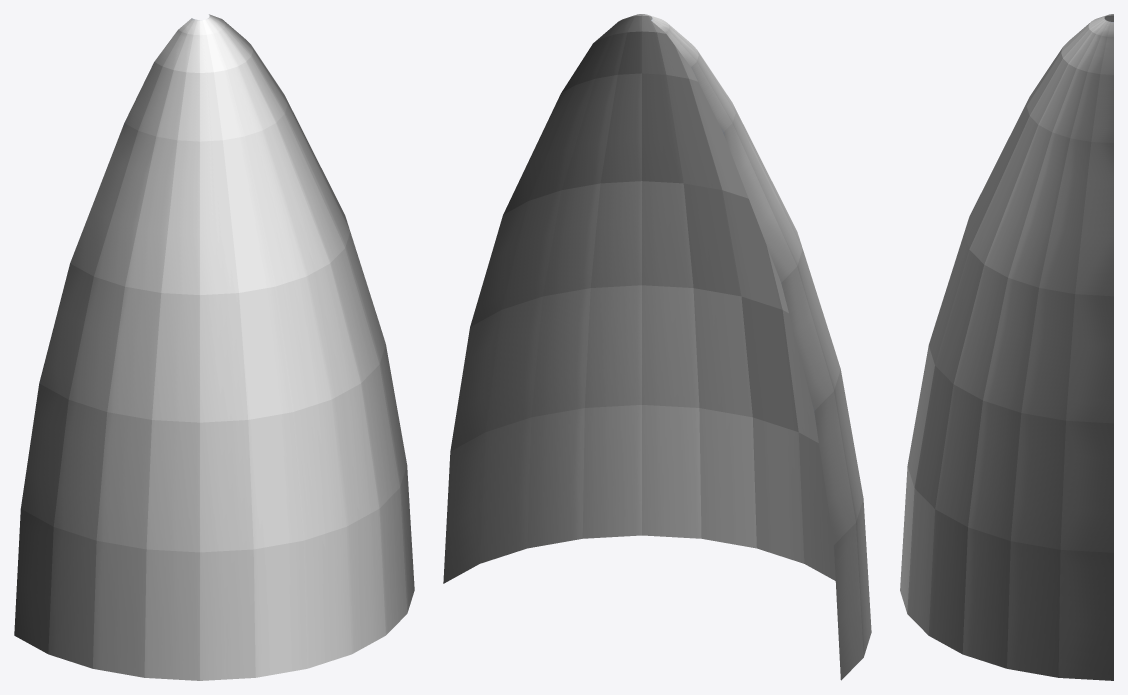
The picture shows the model from 3 angles, left to right: view 1: azimuth 30°, elevation 25°; view 2: azimuth 150°, elevation 25°; view 3: azimuth 270°, elevation 25°; orthographic projection. The views are drawn at different scales.
Parts seen in each view (by area): view 1: Cylinder; view 2: Cylinder; view 3: Cylinder.
Boxes of the visible parts, <box> form: Cylinder: <box>14,14,414,680</box>; Cylinder: <box>443,14,871,680</box>; Cylinder: <box>900,14,1113,680</box>.
Size of the model in its own units: 1.4 by 2.07 by 0.7.
Materials: 1 (1 with a texture image).
